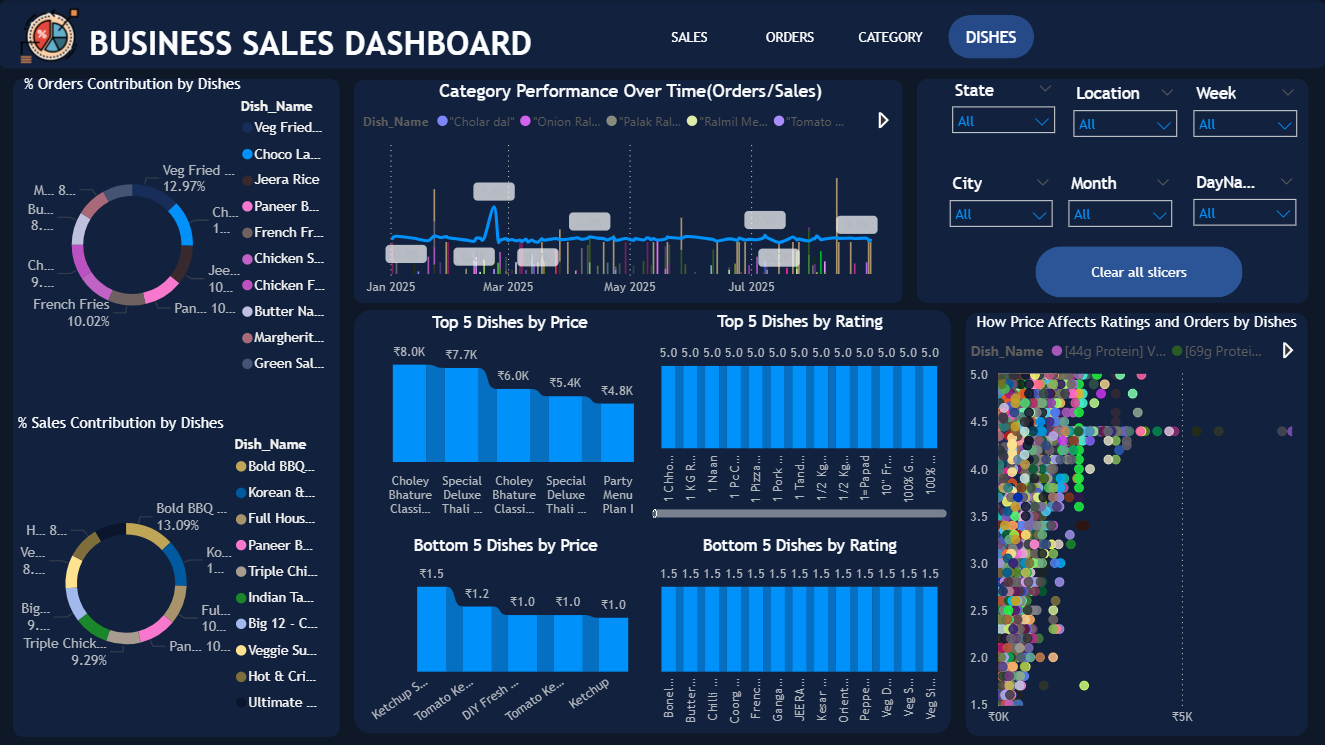

The page's visual inventory and layout, read from the dashboard file:
{"tool":"powerbi","page":{"name":"DISHES","canvas":[1280,720],"ordinal":3},"visuals":[{"type":"shape","box":[885.1,75.5,378.7,216.8],"z":0},{"type":"shape","box":[0,0,1280,66.4],"z":1000},{"type":"shape","box":[343.1,76.8,529.7,215.4],"z":2000},{"type":"shape","box":[13.7,75.5,315.6,635.3],"z":3000},{"type":"shape","box":[343.1,299.1,576.3,408.9],"z":4000},{"type":"shape","box":[933.1,301.9,330.7,408.9],"z":5000},{"type":"textbox","box":[30.2,0,540.7,65.9],"z":6000},{"type":"image","box":[13.7,4.1,71.4,61.7],"z":7000},{"type":"slicer","fields":{"Values":["Business_sales_Data.Location"]},"box":[1026.1,75.5,120,76],"z":8000},{"type":"slicer","fields":{"Values":["Business_sales_Data.State"]},"box":[909.8,72.7,119.4,75.5],"z":9000},{"type":"columnChart","title":"Top 5 Dishes by Price","fields":{"Category":["Business_sales_Data.Dish_Name"],"Y":["DAX Table.AVG PRICE"]},"box":[345.8,301.9,293.7,204.5],"z":10000},{"type":"pageNavigator","box":[624.9,14.5,376.4,42.2],"z":11000},{"type":"slicer","fields":{"Values":["Business_sales_Data.City"]},"box":[907,163.3,119.4,75.5],"z":12000},{"type":"slicer","fields":{"Values":["Date_table.DayName"]},"box":[1143.1,161.9,119.4,75.5],"z":13000},{"type":"slicer","fields":{"Values":["Date_table.Month"]},"box":[1022.3,163.3,120.8,75.5],"z":14000},{"type":"slicer","fields":{"Values":["Date_table.Week"]},"box":[1143.1,75.5,120.8,76.8],"z":15000},{"type":"actionButton","box":[1000.3,237.4,200.3,49.4],"z":16000},{"type":"lineStackedColumnComboChart","title":"Category Performance Over Time(Orders/Sales)","fields":{"Category":["Business_sales_Data.Order_Date"],"Y":["DAX Table.Total Sales"],"Y2":["DAX Table.Total Orders"],"Series":["Business_sales_Data.Dish_Name"]},"box":[345.8,76.8,526.9,215.4],"z":17000},{"type":"scatterChart","title":"How Price Affects Ratings and Orders by Dishes","fields":{"Y":["Avg(Business_sales_Data.Rating)"],"X":["DAX Table.AVG PRICE"],"Category":["Business_sales_Data.Order_Date"],"Series":["Business_sales_Data.Dish_Name"]},"box":[933.1,301.9,330.7,406.2],"z":18000},{"type":"columnChart","title":"Bottom 5 Dishes by Price","fields":{"Category":["Business_sales_Data.Dish_Name"],"Y":["DAX Table.AVG PRICE"]},"box":[345.8,516,285.4,192.1],"z":19000},{"type":"donutChart","title":"% Orders Contribution by Dishes","fields":{"Y":["DAX Table.Total Orders"],"Category":["Business_sales_Data.Dish_Name"]},"box":[19.2,72.7,310.1,311.5],"z":20000},{"type":"donutChart","title":"% Sales Contribution by Dishes","fields":{"Y":["DAX Table.Total Sales"],"Category":["Business_sales_Data.Dish_Name"]},"box":[13.7,399.3,310.1,311.5],"z":21000},{"type":"columnChart","title":"Bottom 5 Dishes by Rating","fields":{"Category":["Business_sales_Data.Dish_Name"],"Y":["DAX Table.AVG RATING"]},"box":[625.7,516,293.7,192.1],"z":22000},{"type":"columnChart","title":"Top 5 Dishes by Rating","fields":{"Category":["Business_sales_Data.Dish_Name"],"Y":["DAX Table.AVG RATING"]},"box":[625.7,300.5,293.7,204.5],"z":23000}]}

Visuals, with their boxes in screenshot pixels (x1, y1, x2, y2), scaled from the page's 1280x720 canvas onto the 1325x745 screenshot:
shape: box=[916, 78, 1308, 302]
shape: box=[0, 0, 1324, 69]
shape: box=[355, 79, 903, 302]
shape: box=[14, 78, 341, 735]
shape: box=[355, 309, 952, 733]
shape: box=[966, 312, 1308, 735]
textbox: box=[31, 0, 591, 68]
image: box=[14, 4, 88, 68]
slicer - Business_sales_Data.Location: box=[1062, 78, 1186, 157]
slicer - Business_sales_Data.State: box=[942, 75, 1065, 153]
"Top 5 Dishes by Price" columnChart: box=[358, 312, 662, 524]
pageNavigator: box=[647, 15, 1037, 59]
slicer - Business_sales_Data.City: box=[939, 169, 1062, 247]
slicer - Date_table.DayName: box=[1183, 168, 1307, 246]
slicer - Date_table.Month: box=[1058, 169, 1183, 247]
slicer - Date_table.Week: box=[1183, 78, 1308, 158]
actionButton: box=[1035, 246, 1243, 297]
"Category Performance Over Time(Orders/Sales)" lineStackedColumnComboChart: box=[358, 79, 903, 302]
"How Price Affects Ratings and Orders by Dishes" scatterChart: box=[966, 312, 1308, 733]
"Bottom 5 Dishes by Price" columnChart: box=[358, 534, 653, 733]
"% Orders Contribution by Dishes" donutChart: box=[20, 75, 341, 398]
"% Sales Contribution by Dishes" donutChart: box=[14, 413, 335, 735]
"Bottom 5 Dishes by Rating" columnChart: box=[648, 534, 952, 733]
"Top 5 Dishes by Rating" columnChart: box=[648, 311, 952, 523]
